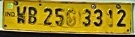character: (15, 5, 26, 24), (80, 7, 91, 26), (92, 8, 103, 27), (115, 8, 126, 27), (42, 6, 52, 26), (53, 7, 64, 25), (27, 5, 37, 24)
